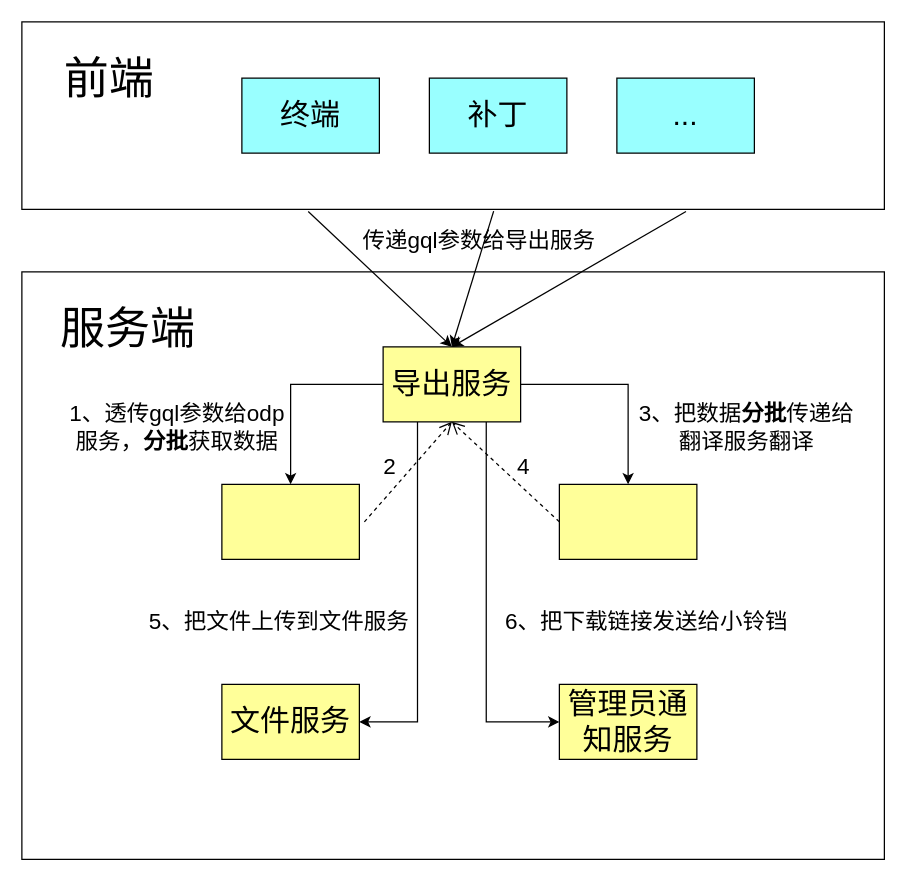
This 906x881 diagram has some shape labels left out. Each missing label, with the box of its shape:
odp服务: (221, 483, 359, 559)
翻译服务: (558, 483, 697, 559)
